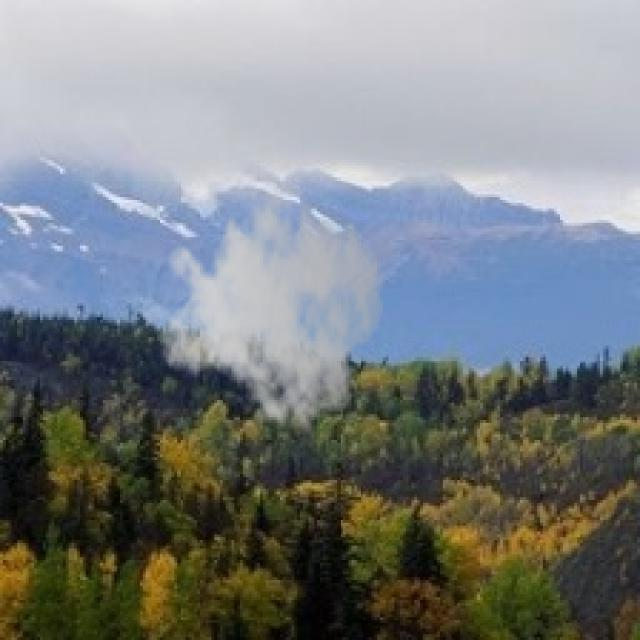Smoke: (157, 172, 386, 438)
